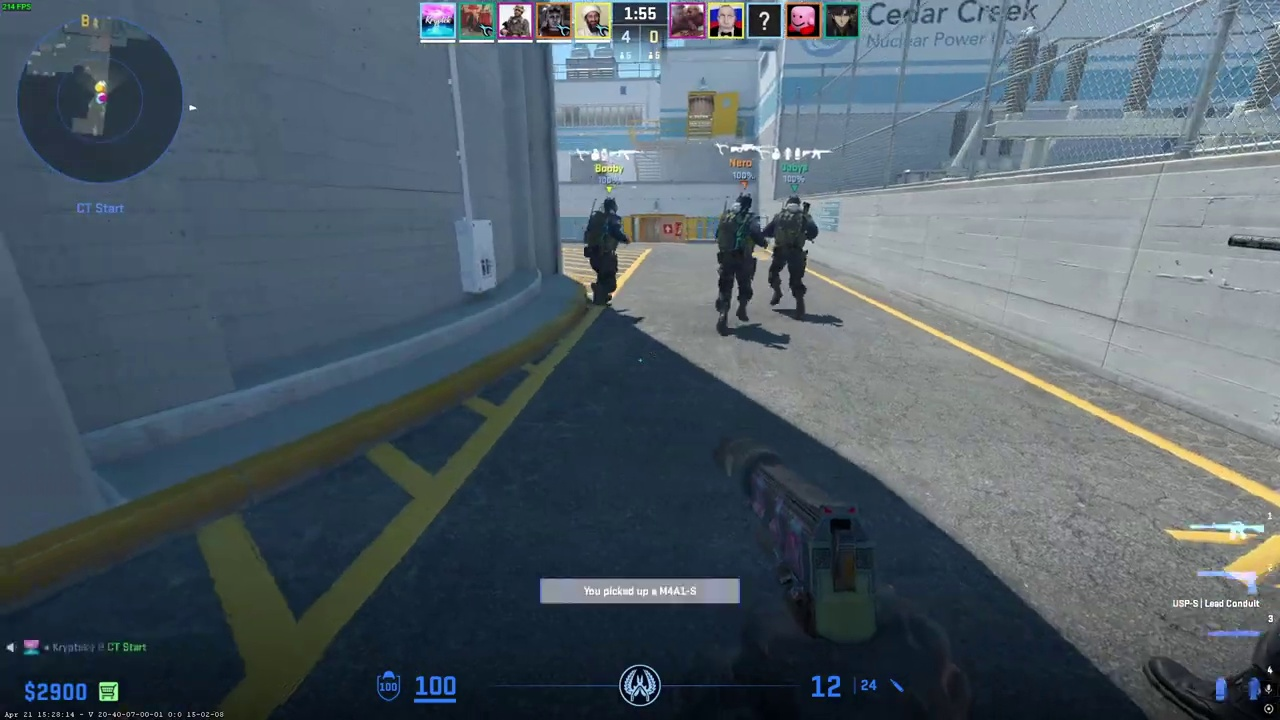CT: (715, 193, 763, 333), (767, 196, 813, 318), (585, 197, 624, 306)
